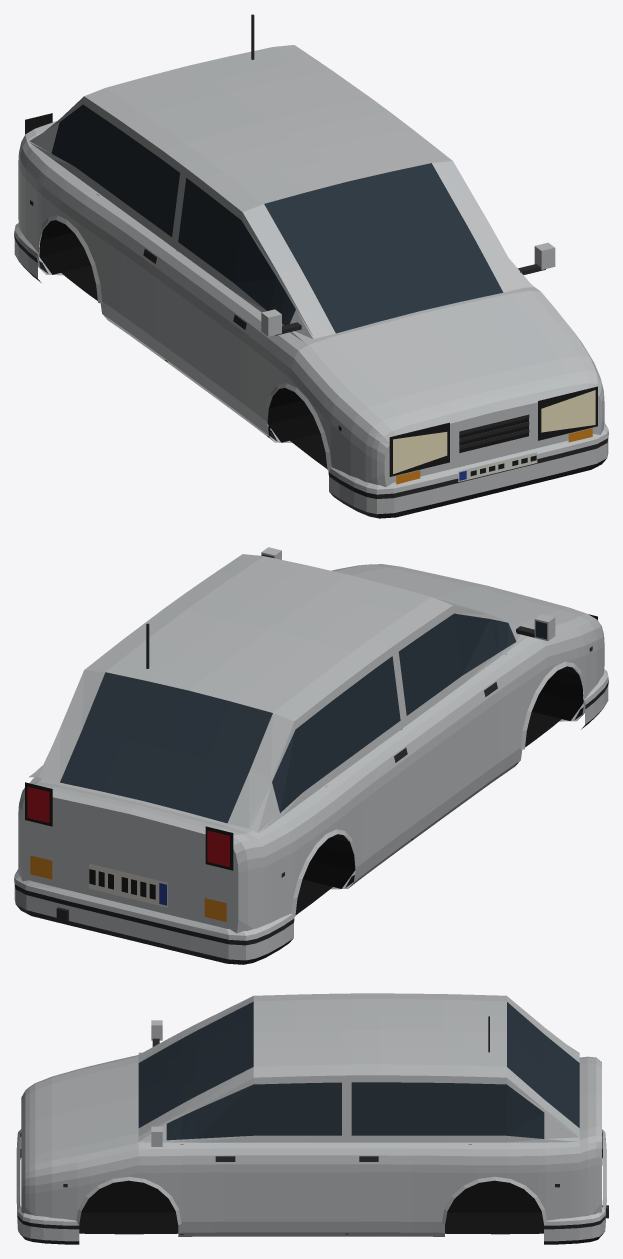
File: ford-focus.glb
3 views of the same model, one above another, from view 1: azimuth 30°, elevation 25°; view 2: azimuth 150°, elevation 25°; view 3: azimuth 270°, elevation 25° (orthographic). The views are drawn at different scales.
Parts seen in each view (by area): view 1: LOD0, door_FR, door_RR; view 2: LOD0, door_FR, door_RR; view 3: LOD0, door_FL, door_RL.
Part boxes in pixels (x1,y1,x2,y2): LOD0: (14, 14, 608, 518); door_FR: (164, 169, 287, 433); door_RR: (83, 112, 180, 357); LOD0: (14, 547, 608, 964); door_FR: (397, 605, 520, 835); door_RR: (317, 648, 414, 881); LOD0: (16, 993, 608, 1244); door_FL: (182, 1075, 345, 1232); door_RL: (348, 1075, 470, 1232).
Size of what is drawn, in the model's own units: 1.89 by 1.58 by 4.25.
